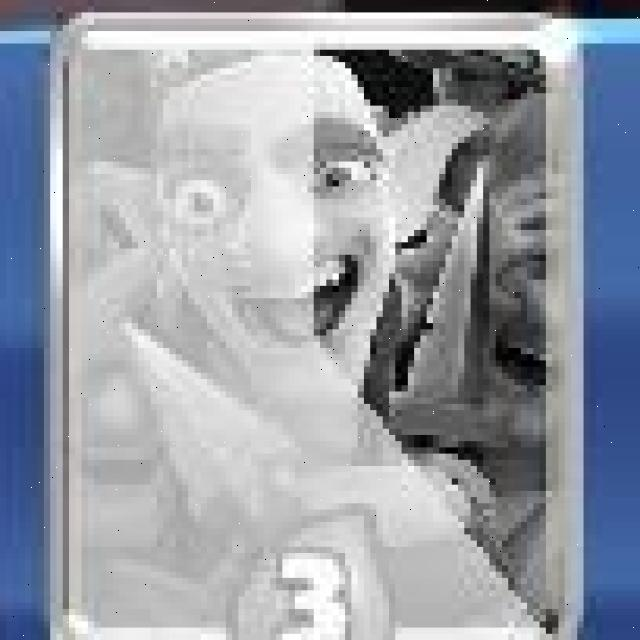Goblin_Gang: (50, 11, 585, 640)
